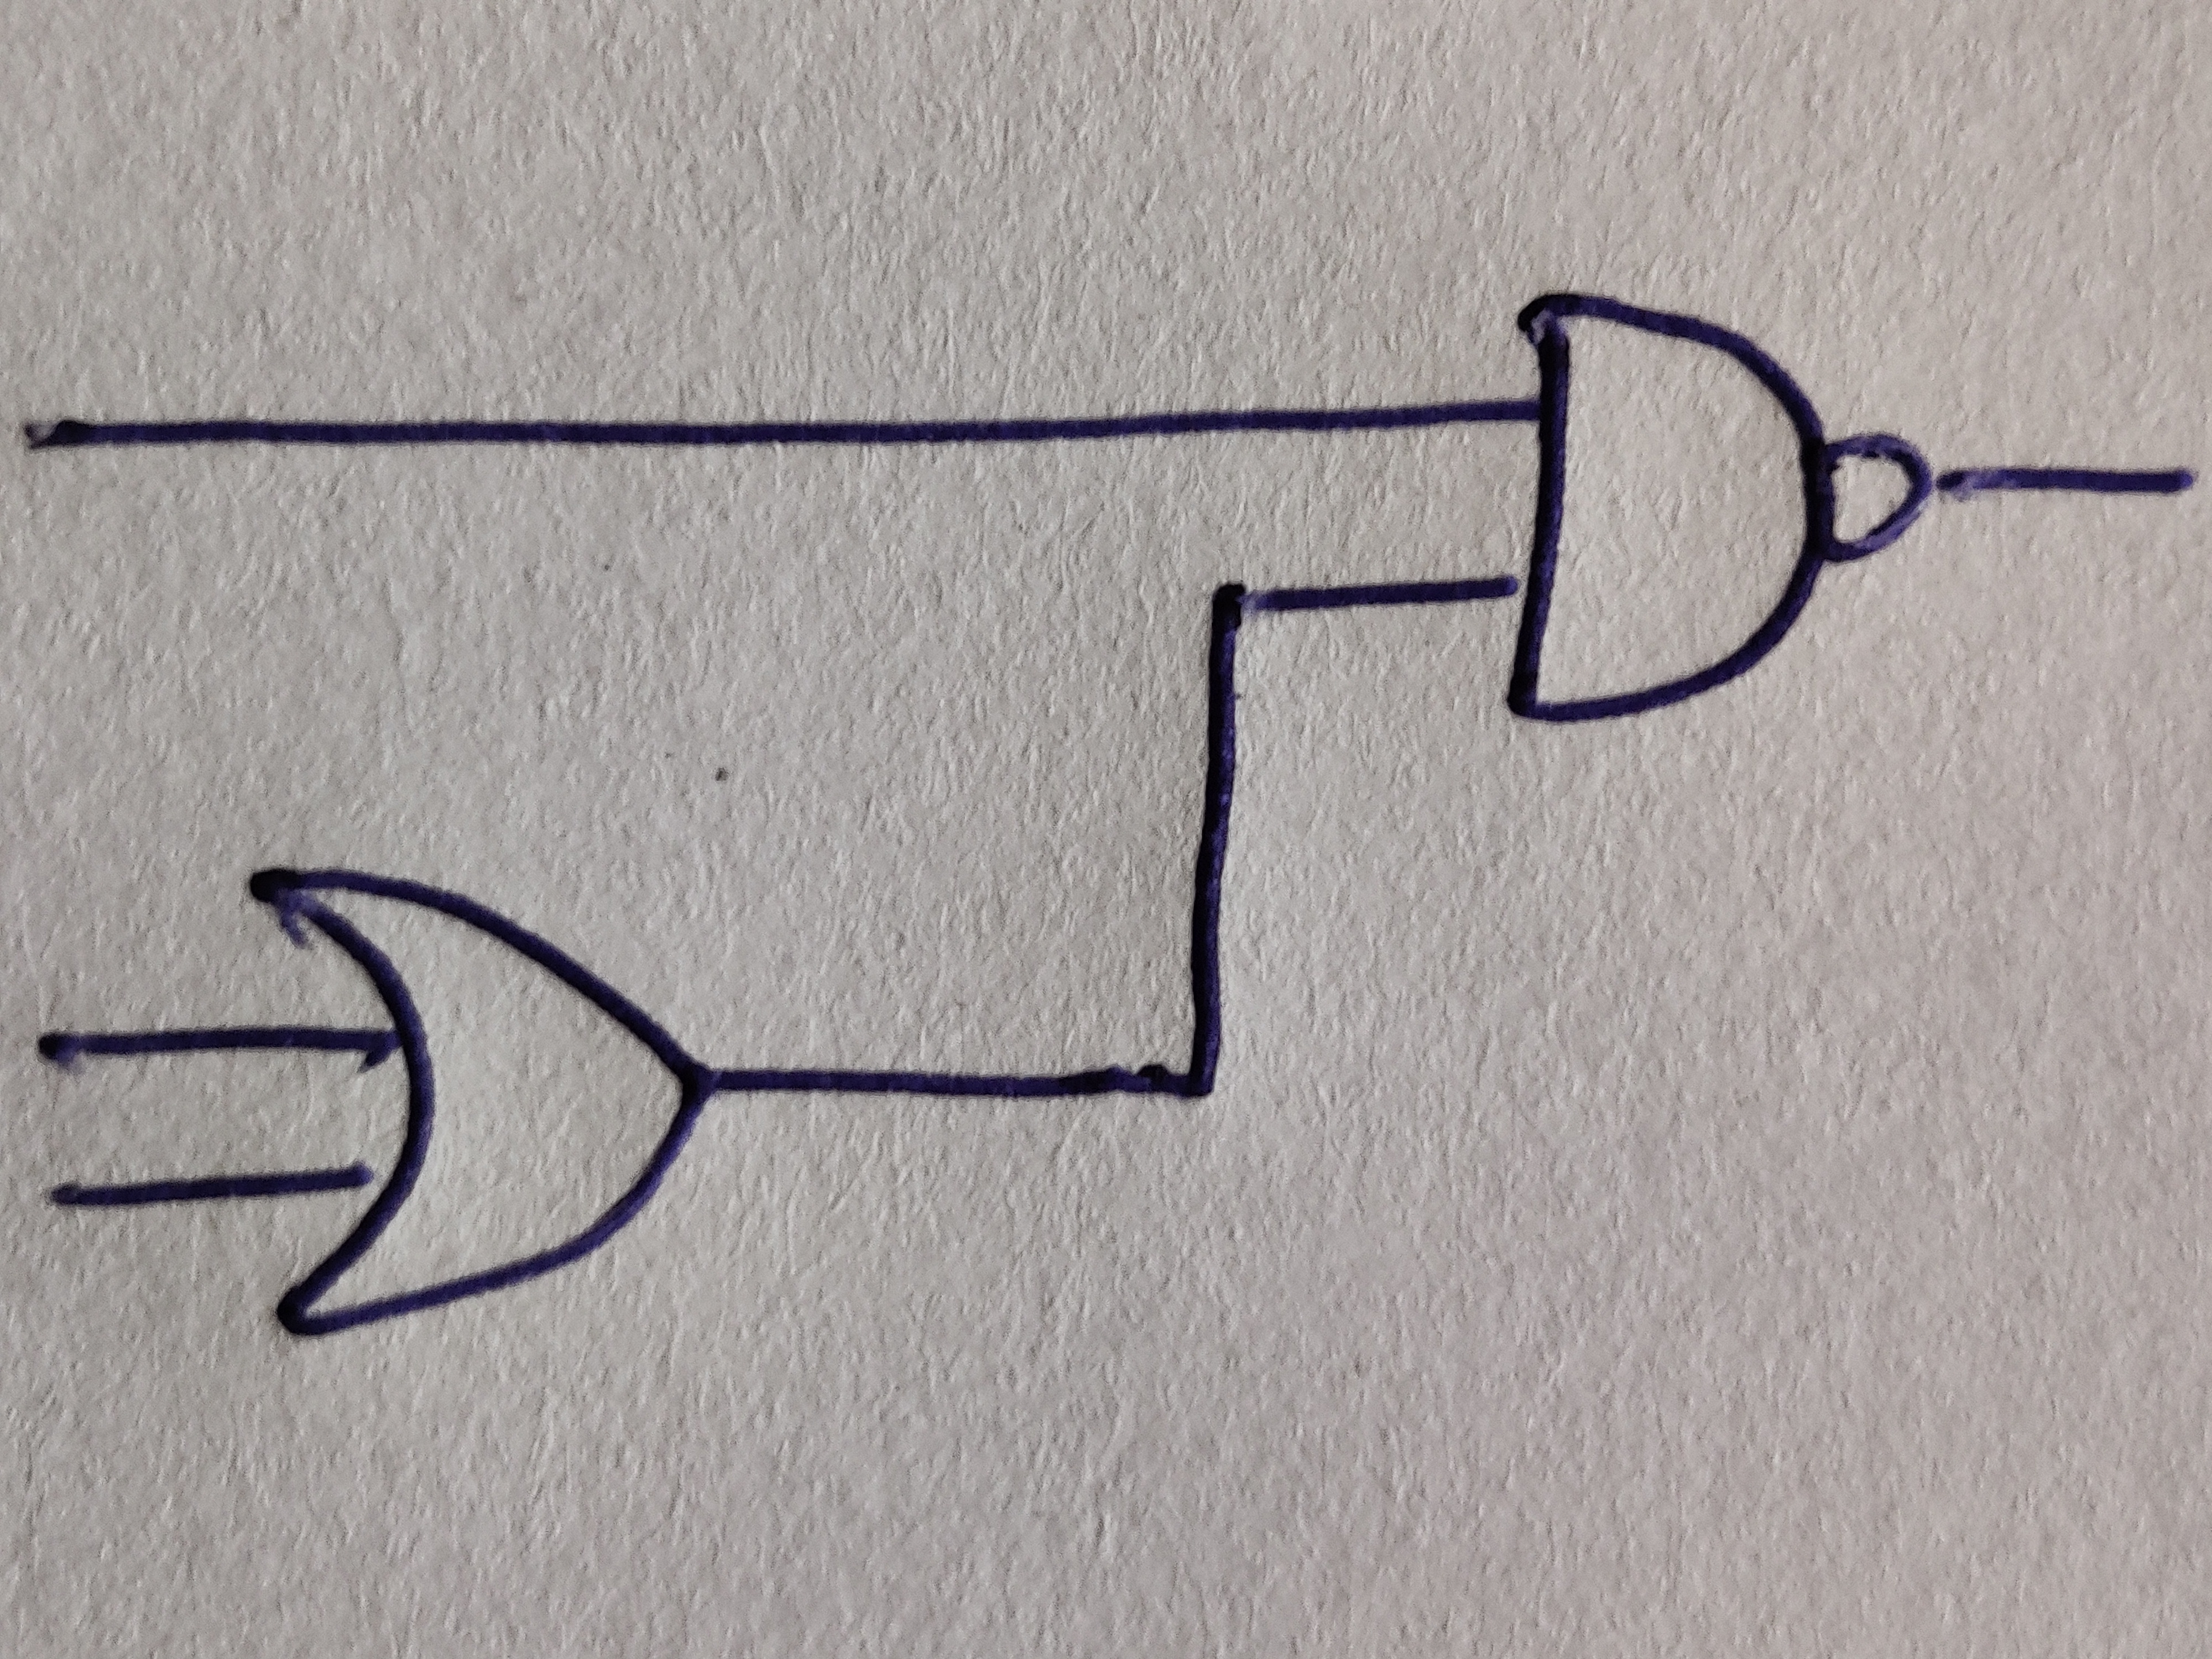and: (1505, 293, 1834, 723)
not: (1818, 436, 1933, 563)
or: (249, 868, 718, 1340)
